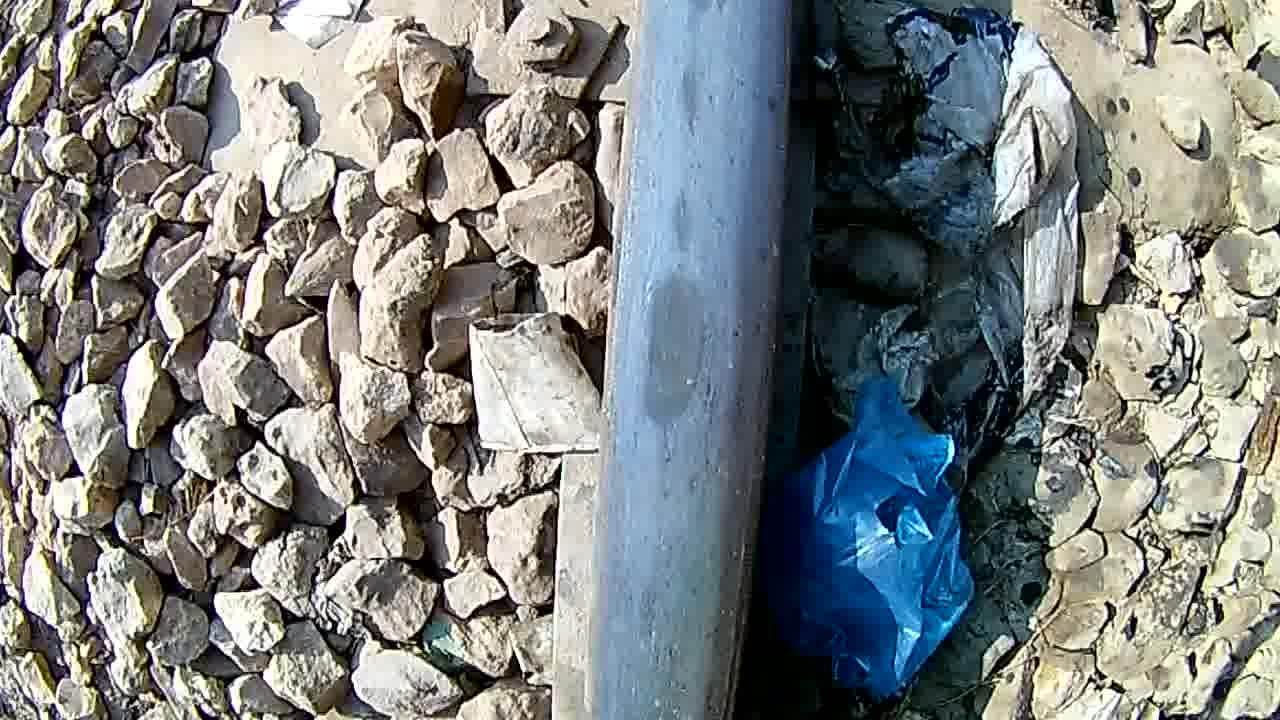bolt_missing: (628, 9, 788, 459)
